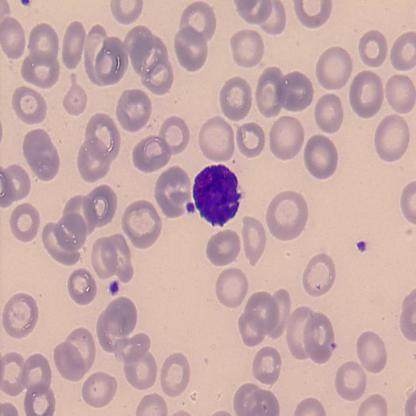Basophil: (190, 162, 244, 230)
